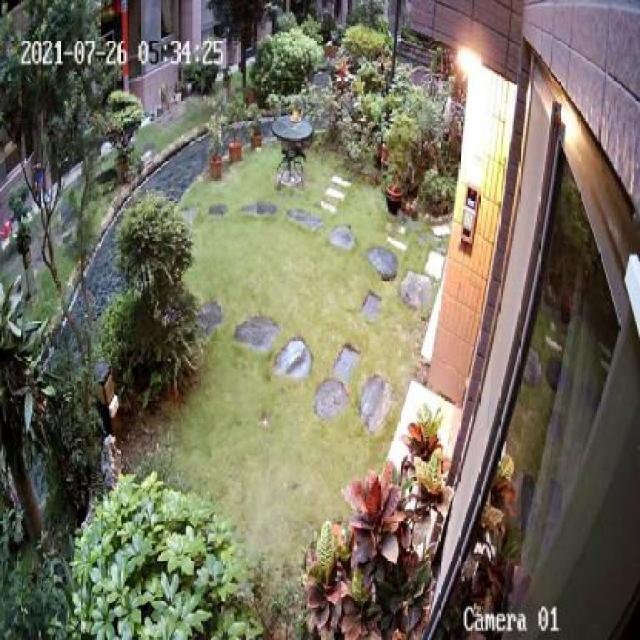animals: (276, 141, 310, 159)
